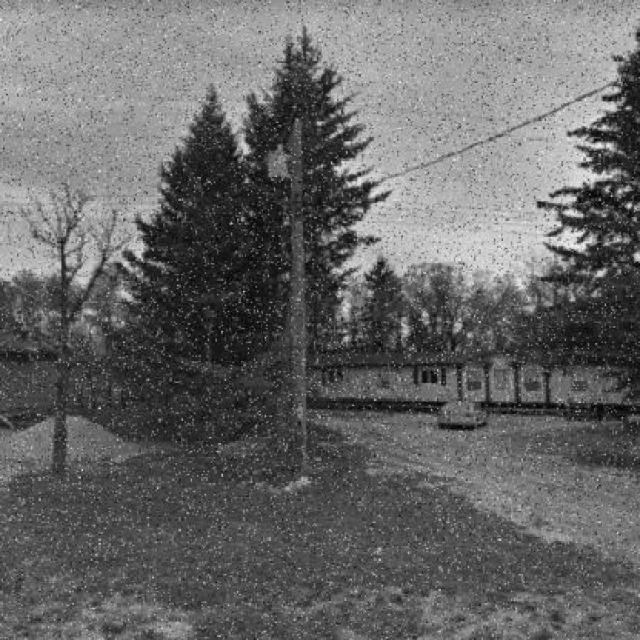pole: (218, 69, 354, 503)
